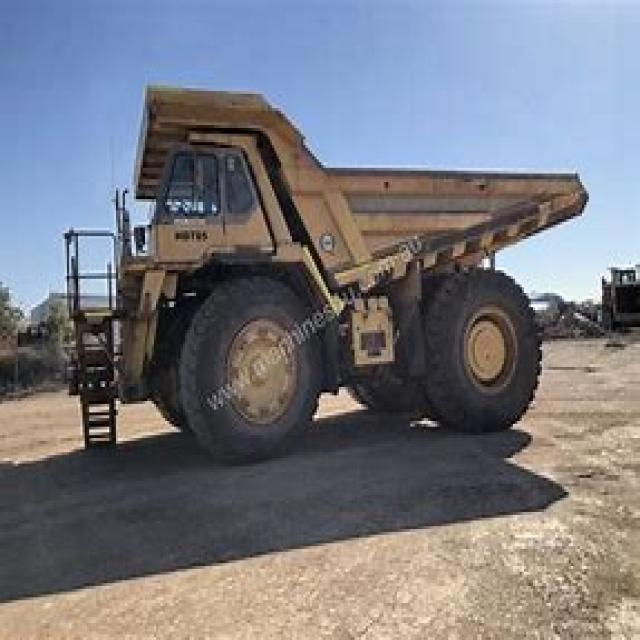dump_truck: (60, 74, 589, 461)
